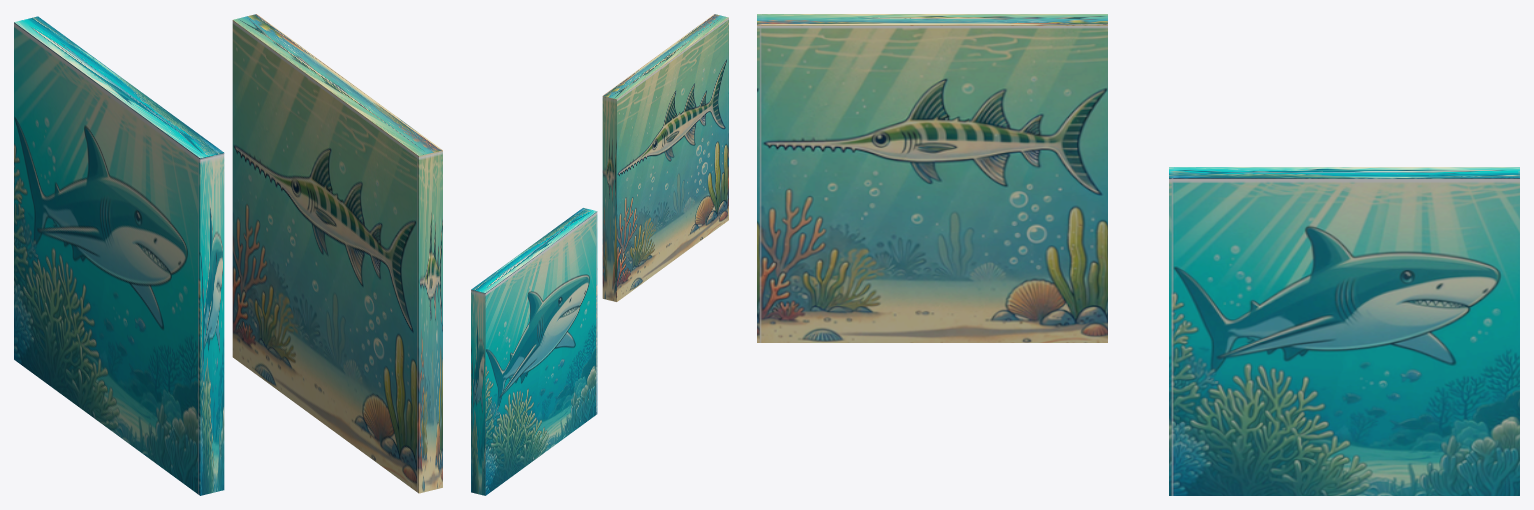
Rendered from Saw.dae.
The picture shows the model from 3 angles, left to right: view 1: azimuth 30°, elevation 25°; view 2: azimuth 150°, elevation 25°; view 3: azimuth 270°, elevation 25°; orthographic projection. The views are drawn at different scales.
Visible parts, largest first — view 1: Cube, Cube.001; view 2: Cube, Cube.001; view 3: Cube, Cube.001.
Part boxes in pixels (x1,y1,x2,y2): Cube: [14, 16, 224, 495]; Cube.001: [232, 14, 442, 493]; Cube: [471, 208, 597, 495]; Cube.001: [602, 14, 728, 301]; Cube: [1169, 167, 1519, 495]; Cube.001: [757, 14, 1107, 342].
Size of the model in its own units: 14.85 by 296 by 435.
